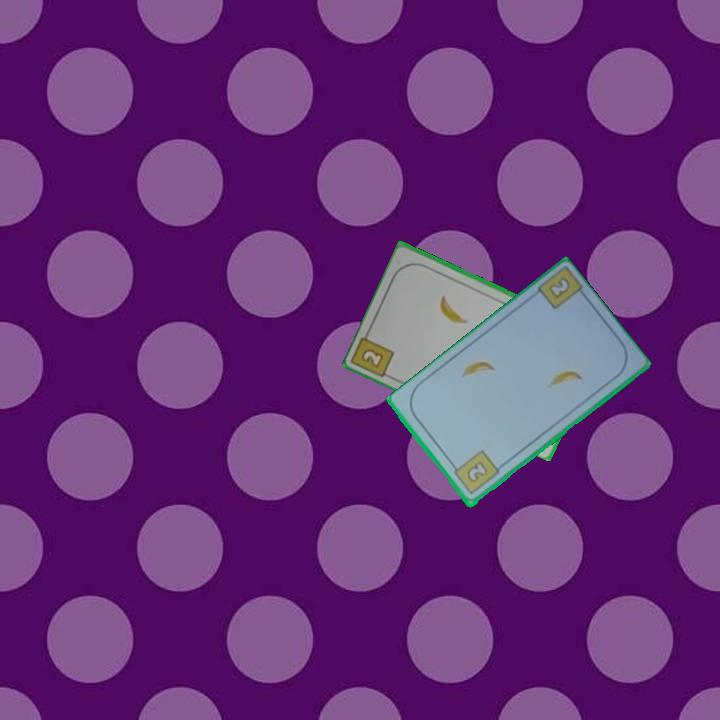2b: (448, 447, 502, 498), (545, 274, 573, 302), (358, 345, 387, 370)
